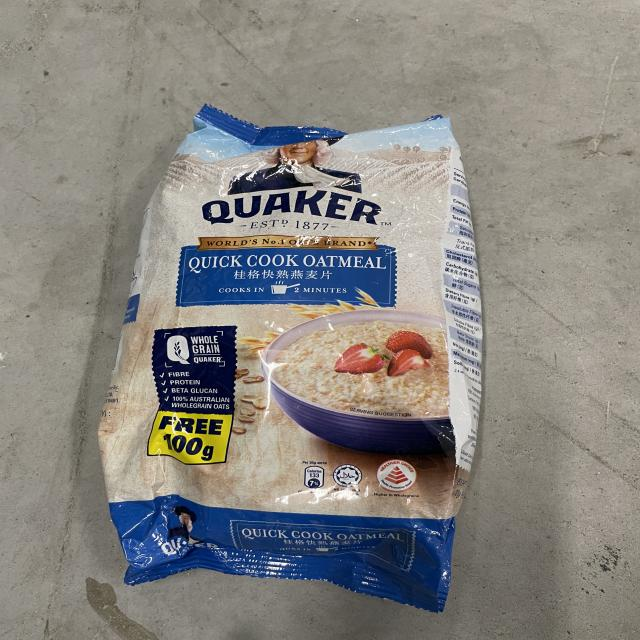object_name: (153, 137, 443, 586)
